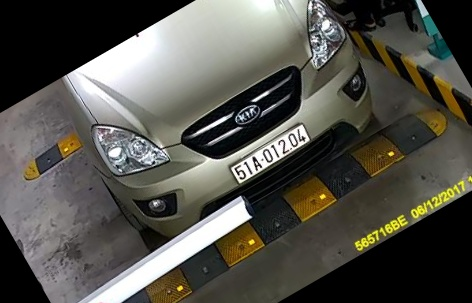plate: (216, 120, 326, 187)
